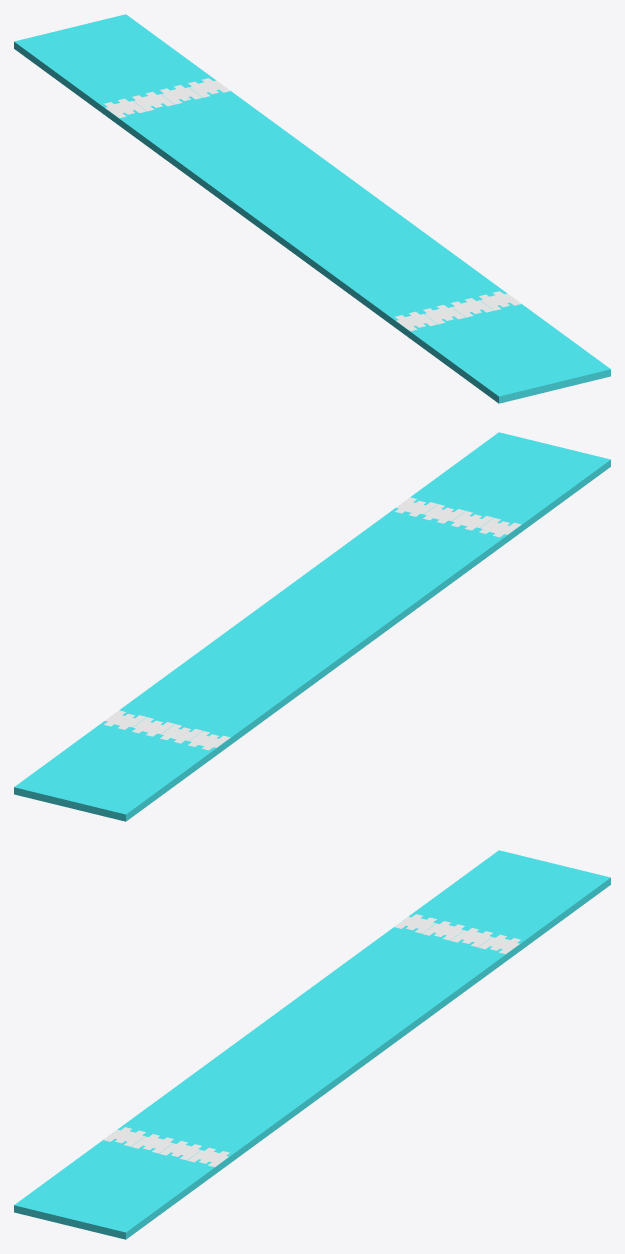
The model's file is SM_water4.fbx.
3 views of the same model, one above another, from view 1: azimuth 30°, elevation 25°; view 2: azimuth 150°, elevation 25°; view 3: azimuth 330°, elevation 25° (orthographic).
Parts seen in each view (by area): view 1: Water4; view 2: Water4; view 3: Water4.
Boxes of the visible parts, x1,y1,x2,y2 form: Water4: (14,14,610,403); Water4: (14,432,610,821); Water4: (14,850,610,1239).
Bounding box in the file's own units: 400 × 25 × 3000.
